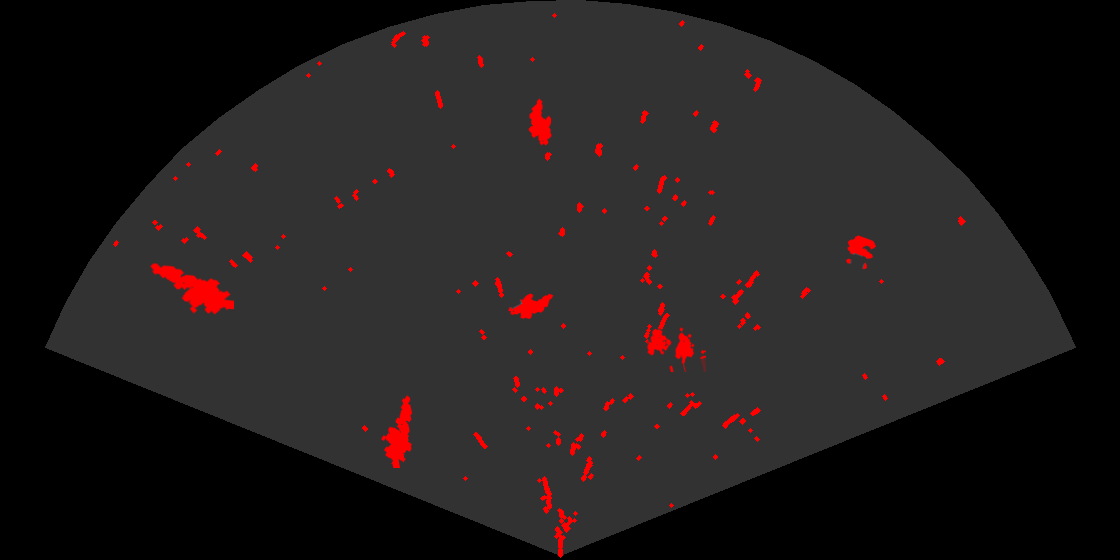AUV: (507, 292, 555, 321), (527, 97, 553, 147)
ball: (844, 234, 878, 271)
cage: (645, 326, 706, 372)
frogman: (149, 261, 234, 316), (379, 394, 414, 468)
